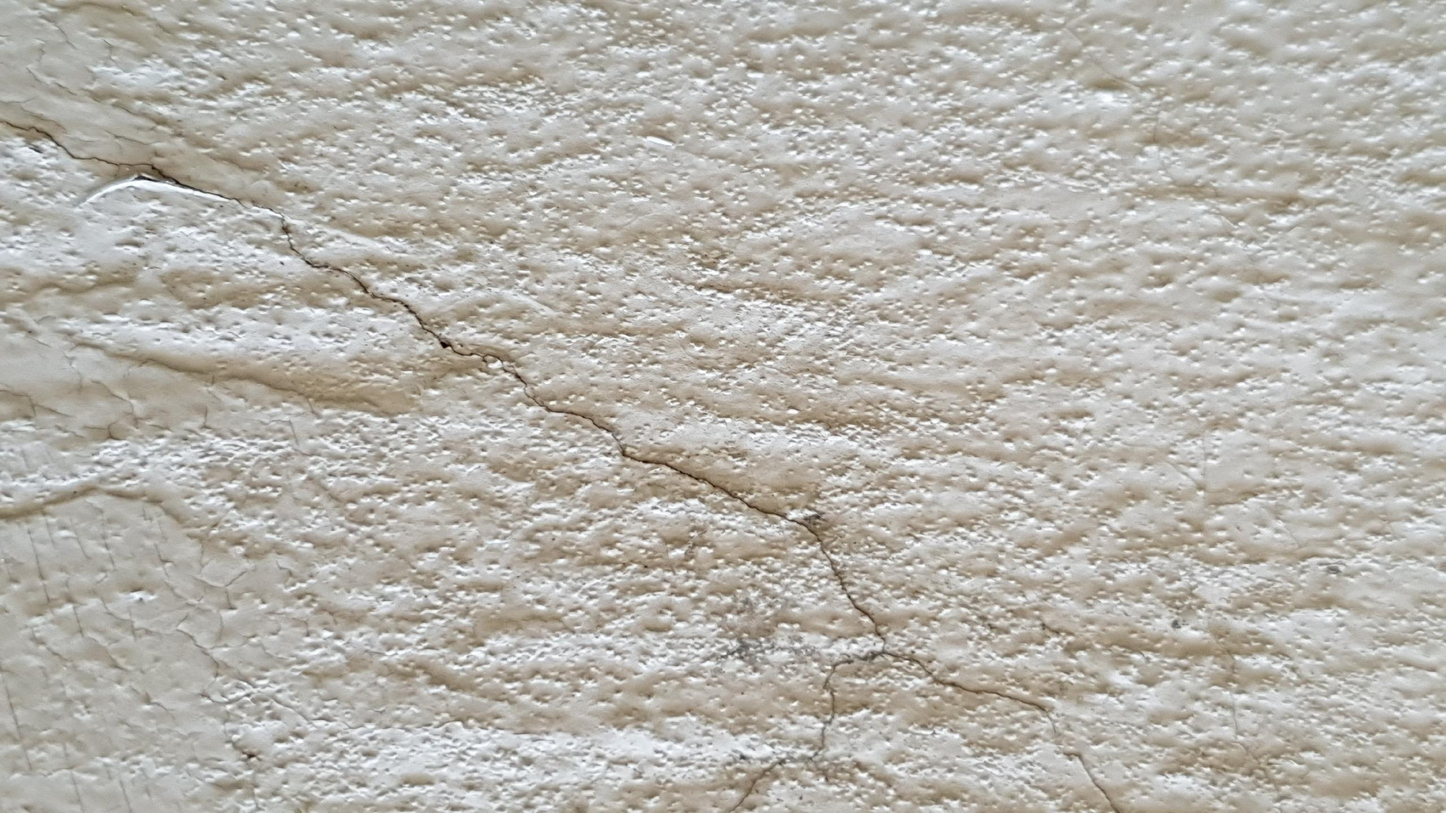crack: (2, 111, 1119, 812)
